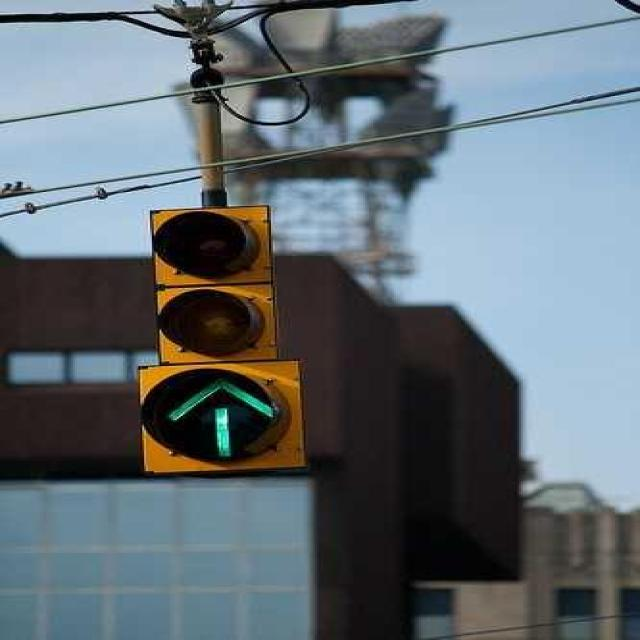Traffic Light -Off-: (110, 201, 325, 485)
